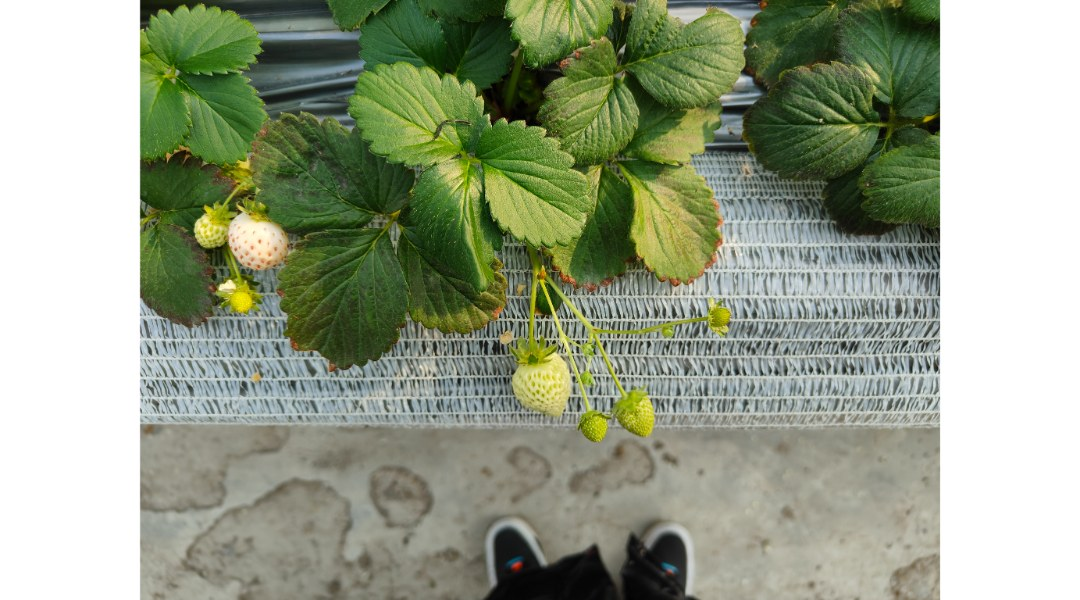berry: (502, 330, 572, 435), (221, 201, 306, 275), (189, 190, 240, 258), (610, 383, 663, 440), (200, 285, 272, 316), (576, 404, 612, 465), (701, 299, 741, 337), (657, 321, 677, 346)
strain: (535, 287, 592, 419), (504, 273, 542, 338), (609, 314, 708, 335), (557, 293, 592, 330)
